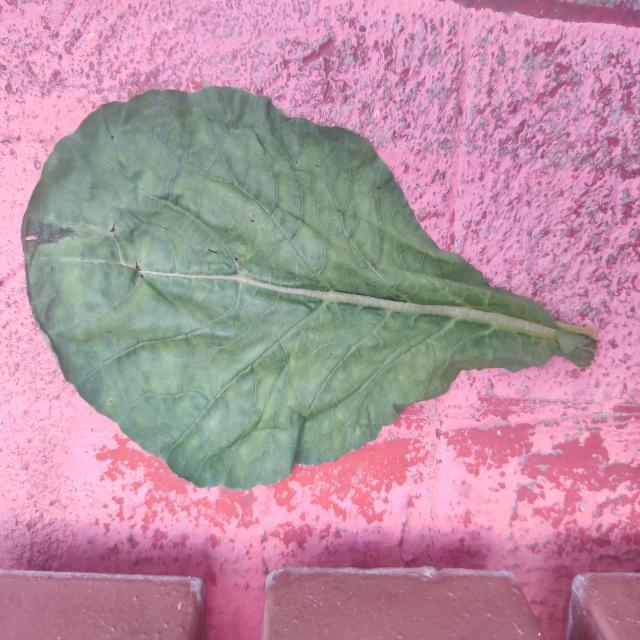raddish: (21, 87, 595, 488)
